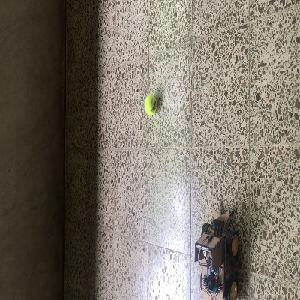Ball: (143, 95, 157, 116)
Robot: (194, 206, 240, 299)
